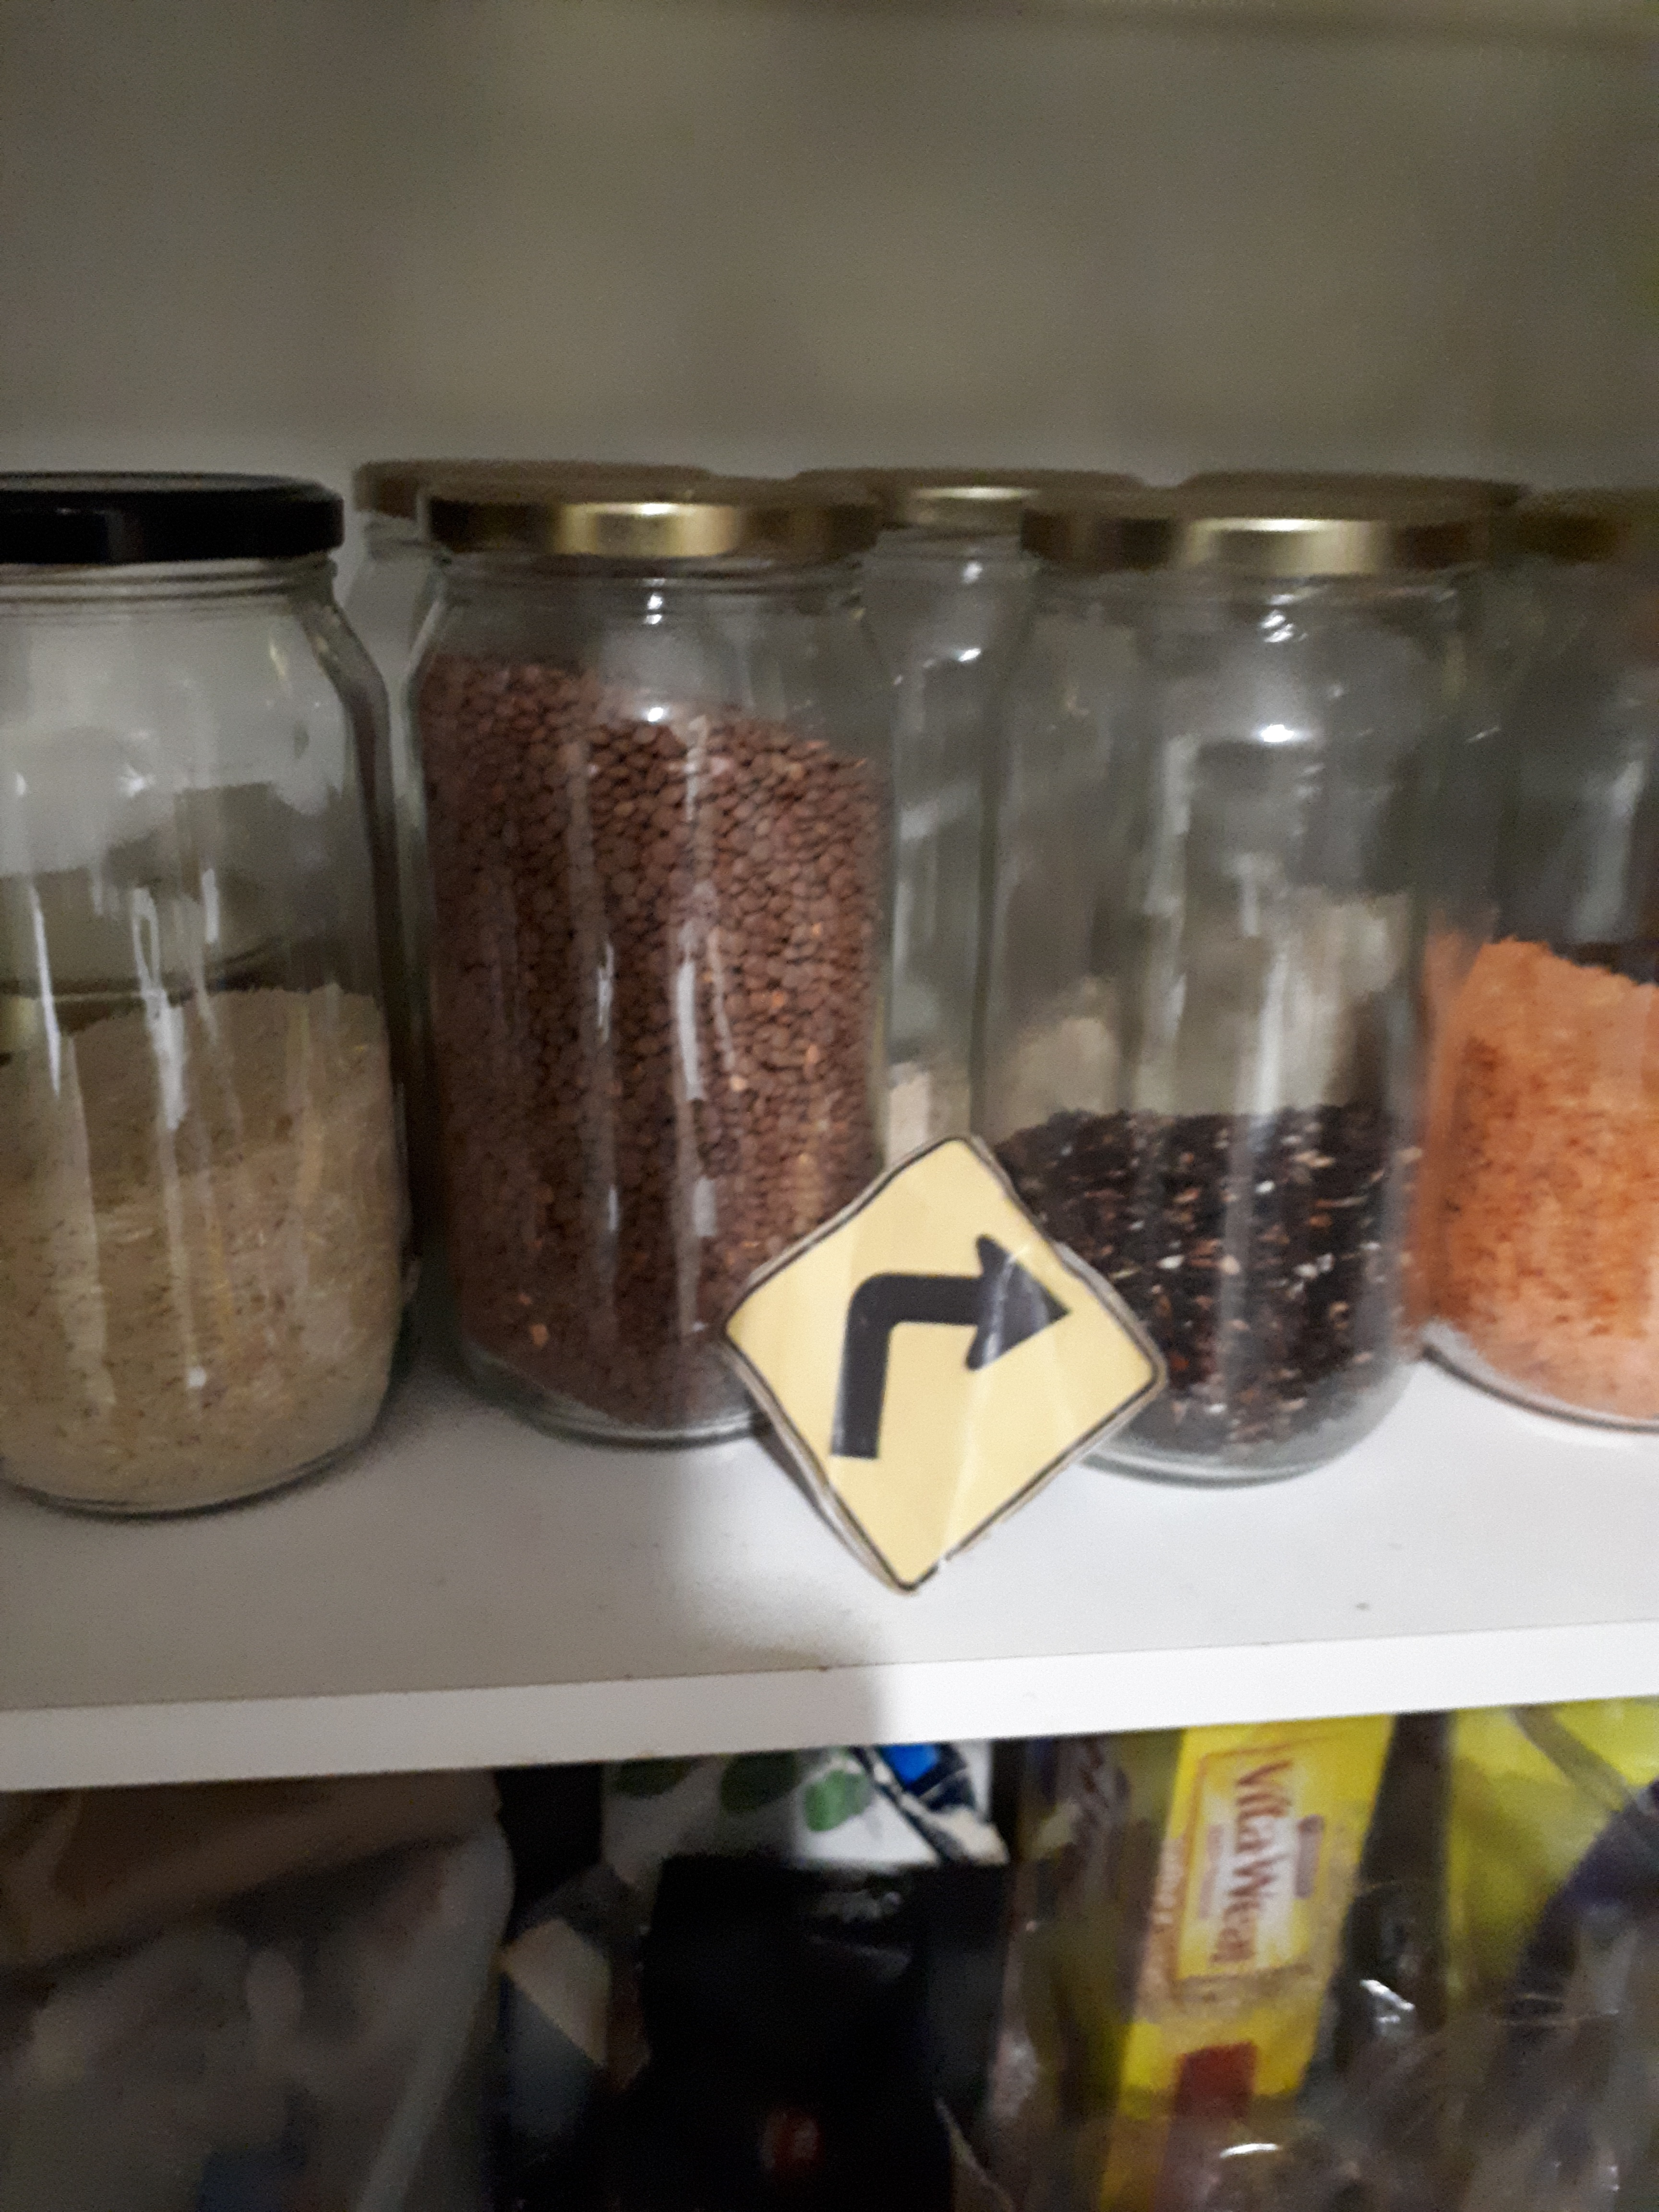right: (645, 1103, 1229, 1623), (807, 1214, 1121, 1561), (836, 1198, 1091, 1371), (943, 1204, 1079, 1411)
